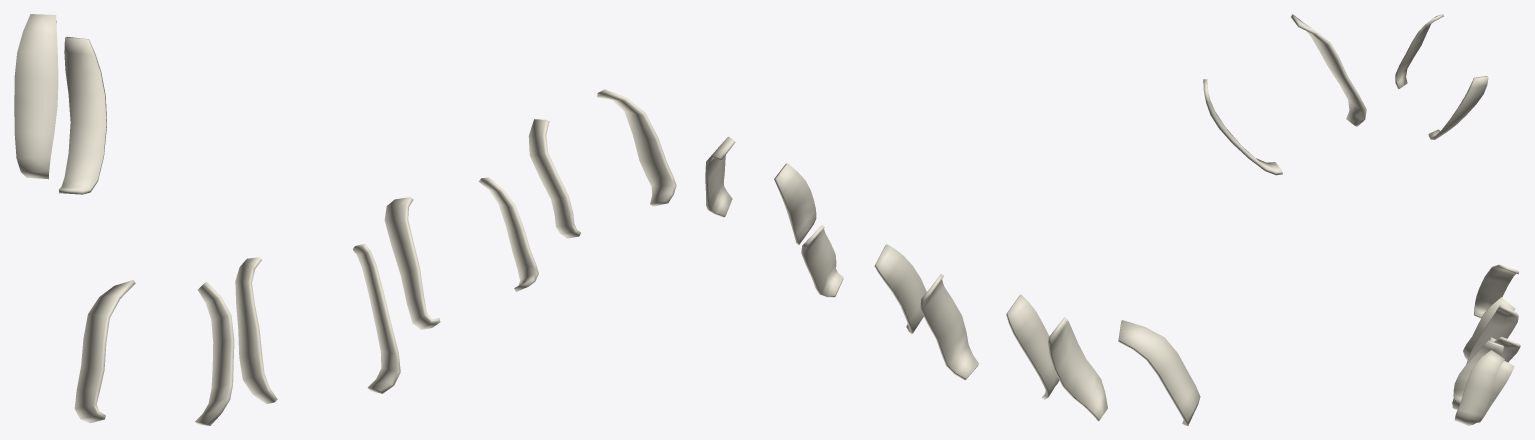
3 views of the same model, side by side, from view 1: azimuth 30°, elevation 25°; view 2: azimuth 150°, elevation 25°; view 3: azimuth 270°, elevation 25° (orthographic). The views are drawn at different scales.
Parts seen in each view (by area): view 1: ZA_66783f4880f6c384; view 2: ZA_66783f4880f6c384; view 3: ZA_66783f4880f6c384.
Part boxes in pixels (x1=…): ZA_66783f4880f6c384: x1=14, y1=14, x2=676, y2=425; ZA_66783f4880f6c384: x1=705, y1=14, x2=1366, y2=425; ZA_66783f4880f6c384: x1=1395, y1=14, x2=1520, y2=425.
Bounding box in the file's own units: 0.0934 × 0.0616 × 0.0238.
